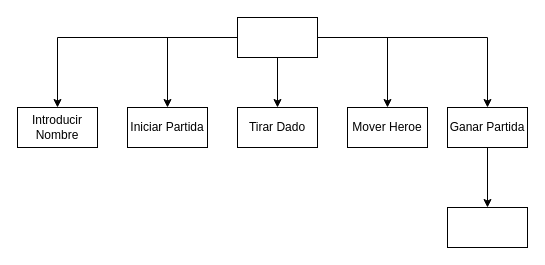
This 545x265 diagram has some shape labels left out. The shapes that lost their labels are listed below. From the top down, each one's centre as x and y in pixels, then its label:
[277,37]: USUARIO
[487,227]: Guardar Record
